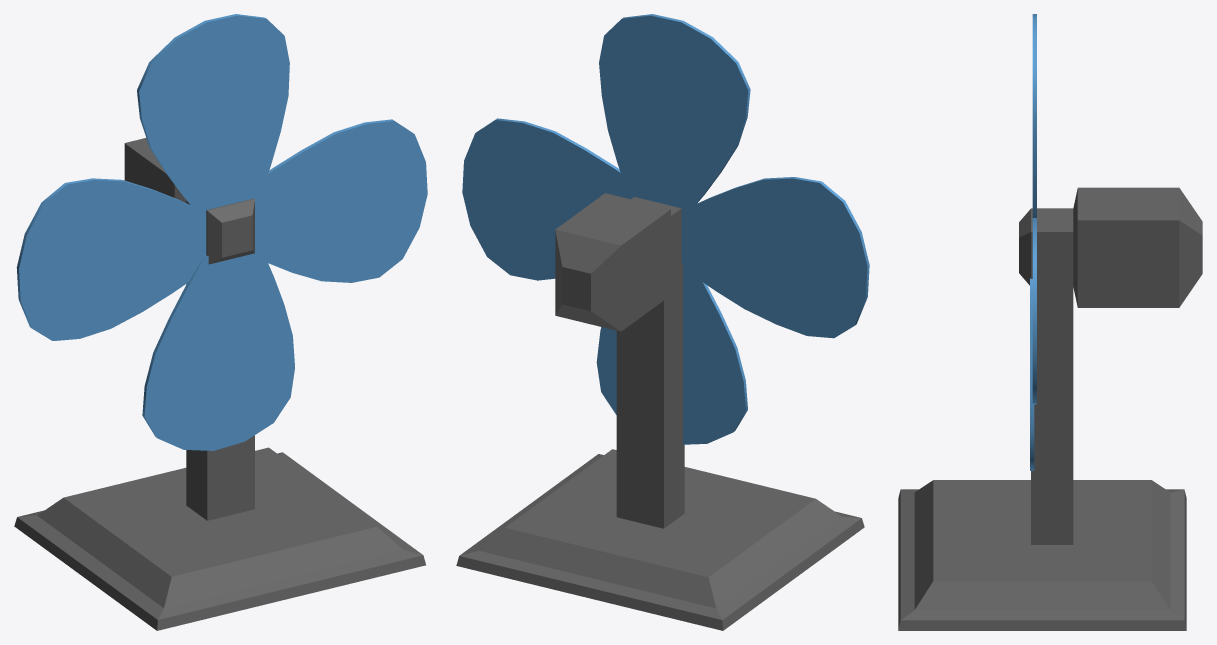
File: updatedFan.fbx
3 views of the same model, side by side, from view 1: azimuth 30°, elevation 25°; view 2: azimuth 150°, elevation 25°; view 3: azimuth 270°, elevation 25° (orthographic).
Parts seen in each view (by area): view 1: polySurface2; view 2: polySurface2; view 3: polySurface2.
Boxes of the visible parts, x1,y1,x2,y2 form: polySurface2: (14, 14, 427, 630); polySurface2: (456, 14, 869, 630); polySurface2: (898, 14, 1202, 630).
Bounding box in the file's own units: 1.61 × 2 × 1.03.
